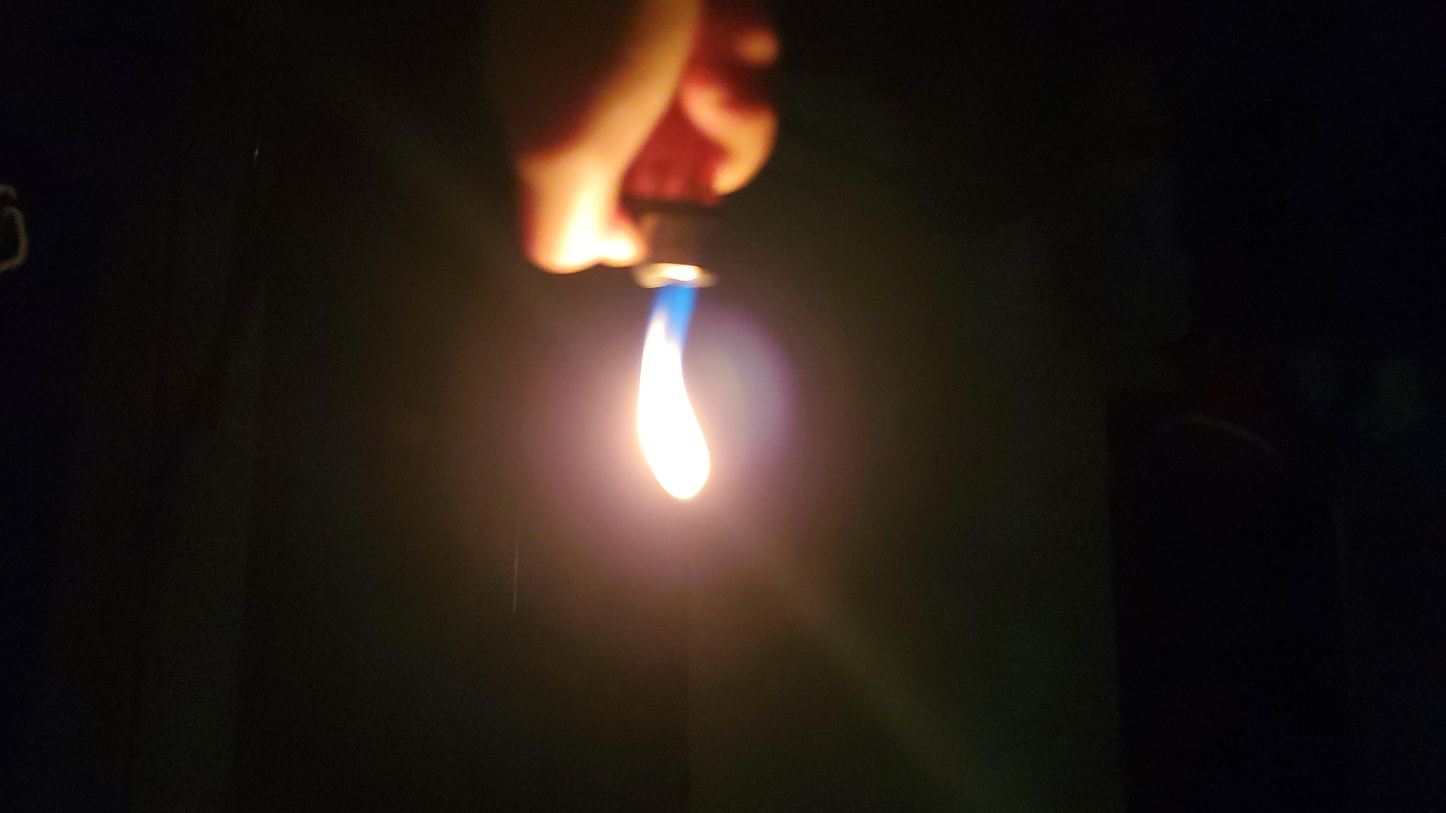fire: (728, 319, 846, 569)
